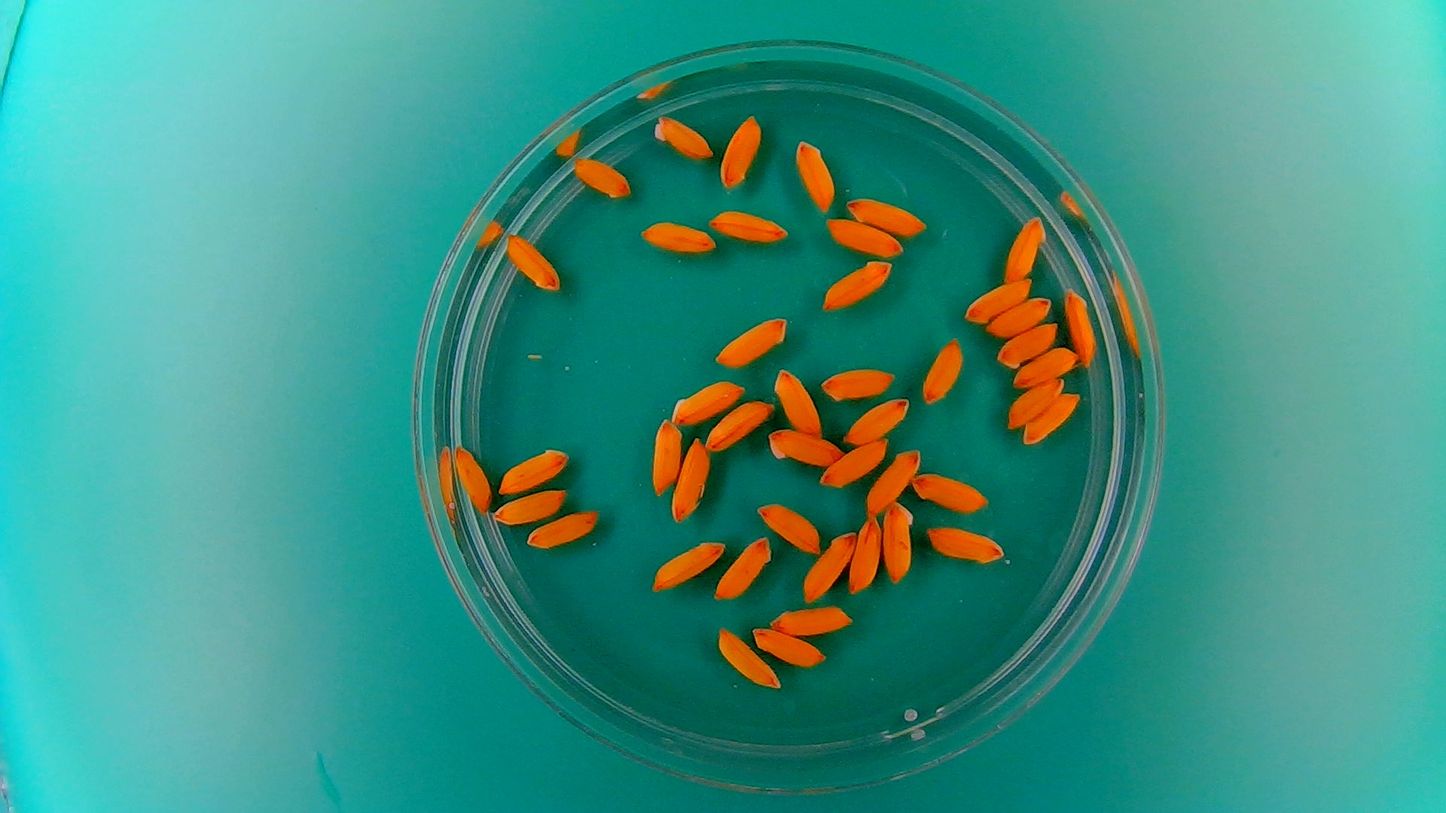no: (665, 375, 745, 434), (713, 623, 781, 690), (648, 536, 727, 592), (711, 312, 790, 368), (801, 528, 859, 603), (820, 257, 895, 314), (712, 533, 773, 601), (865, 446, 923, 517), (500, 228, 563, 293), (703, 396, 776, 452), (496, 444, 572, 496), (669, 434, 712, 524), (717, 110, 764, 191), (818, 437, 890, 489), (756, 499, 823, 554), (841, 395, 911, 447), (792, 136, 838, 215), (923, 522, 1007, 565), (844, 194, 929, 236), (770, 365, 821, 435), (909, 470, 990, 514), (764, 424, 844, 468), (526, 507, 602, 553), (1005, 376, 1067, 431), (822, 216, 903, 258), (749, 624, 825, 668), (1023, 391, 1082, 446), (1003, 213, 1048, 285), (651, 111, 715, 161), (1010, 345, 1081, 390), (921, 335, 966, 406), (963, 277, 1032, 323), (818, 362, 898, 401), (568, 152, 633, 200), (492, 486, 569, 526), (881, 499, 917, 584), (451, 441, 492, 515), (986, 295, 1054, 339), (996, 321, 1057, 370), (1063, 285, 1099, 368), (709, 208, 791, 244), (638, 219, 717, 255), (768, 602, 854, 635), (849, 513, 884, 594), (648, 418, 683, 498)
